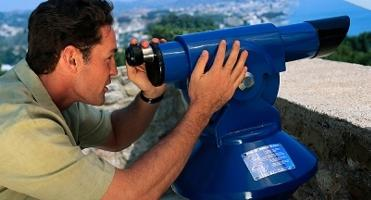person: (2, 1, 247, 200)
